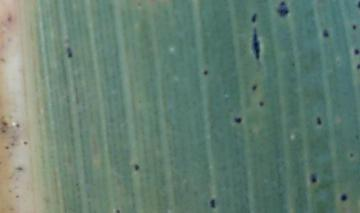tarspot: (251, 28, 261, 59), (278, 1, 288, 18), (249, 12, 259, 24), (321, 27, 330, 39), (66, 45, 73, 59), (310, 172, 318, 184), (13, 164, 24, 172), (340, 192, 348, 202), (133, 161, 140, 172), (233, 116, 242, 124), (22, 138, 30, 146), (316, 116, 322, 126), (2, 119, 9, 127), (202, 68, 209, 76), (211, 198, 216, 209), (251, 83, 257, 92), (258, 100, 265, 107), (1, 127, 7, 135), (354, 47, 360, 55), (7, 15, 13, 23), (15, 122, 21, 129), (349, 152, 355, 158), (352, 24, 358, 30), (4, 145, 11, 150), (291, 61, 296, 68), (115, 208, 121, 213), (357, 62, 360, 70), (357, 1, 360, 9)
